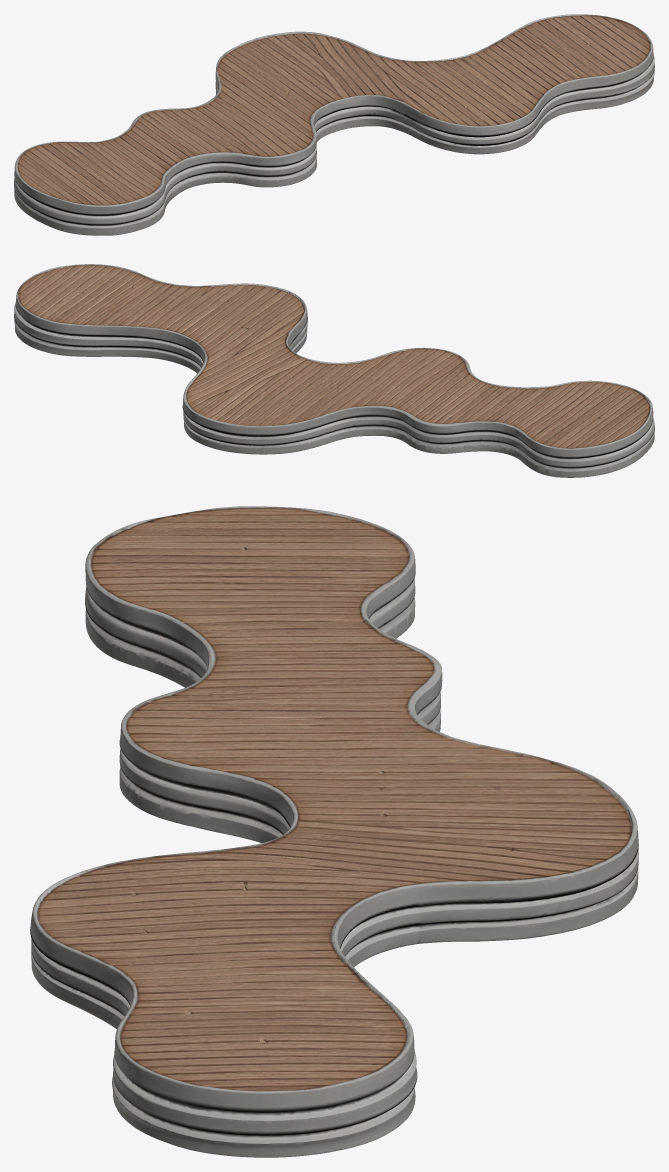
File: deckwave.glb
The picture shows the model from 3 angles, top to bottom: view 1: azimuth 30°, elevation 25°; view 2: azimuth 150°, elevation 25°; view 3: azimuth 270°, elevation 25°; orthographic projection. The views are drawn at different scales.
Visible parts, largest first — view 1: tripo_node_9ec09905-91dd-470f-8dda-bee24659368a; view 2: tripo_node_9ec09905-91dd-470f-8dda-bee24659368a; view 3: tripo_node_9ec09905-91dd-470f-8dda-bee24659368a.
Boxes of the visible parts, left/top/right/bottom form: tripo_node_9ec09905-91dd-470f-8dda-bee24659368a: left=14, top=14, right=654, bottom=235; tripo_node_9ec09905-91dd-470f-8dda-bee24659368a: left=14, top=264, right=654, bottom=477; tripo_node_9ec09905-91dd-470f-8dda-bee24659368a: left=30, top=506, right=638, bottom=1157.
Size of the model in its own units: 9.23 by 0.5 by 3.97.
1 material, 1 textured.
